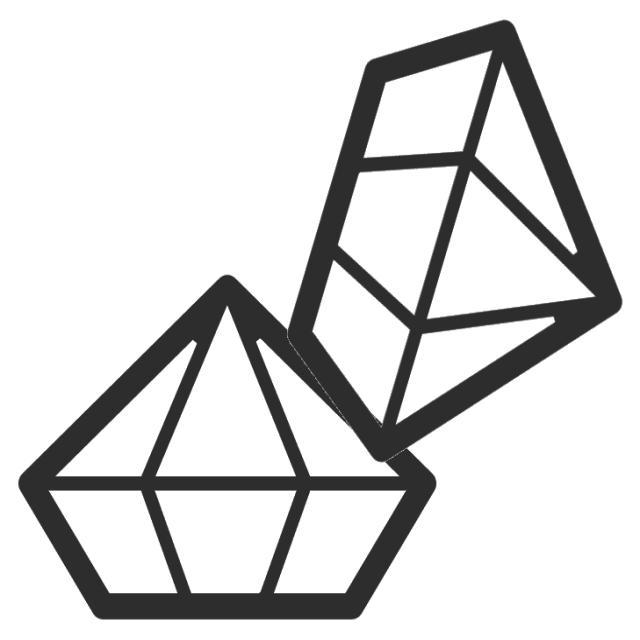diamond: (255, 8, 633, 482), (10, 266, 447, 631)
